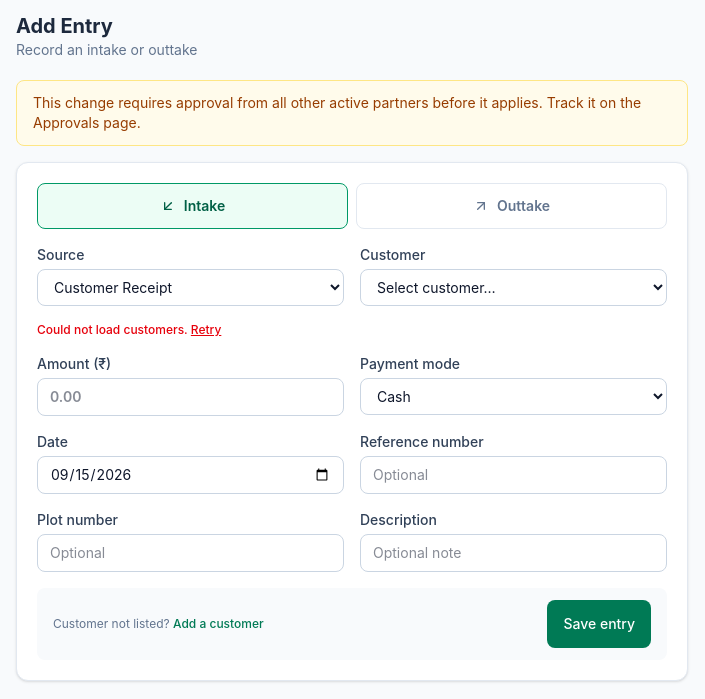
AddEntry › shows an explicit error state when the customer API fails, and recovers on Retry
Expected: the message shows "Could not load customers", x1=37 y1=322 x2=188 y2=337
Click the button "Retry".
click(206, 330)  # box x1=191 y1=322 x2=221 y2=338
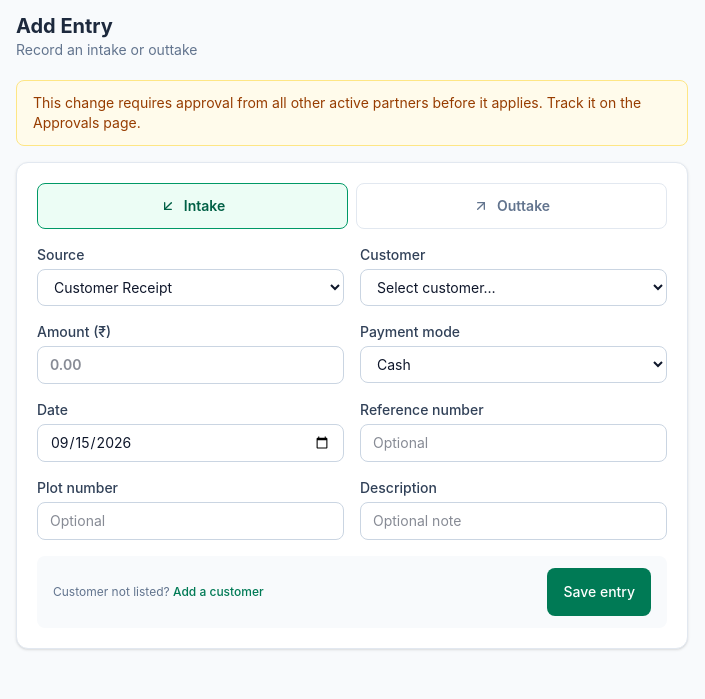
Expected: the message "Could not load customers. Retry" is gone
